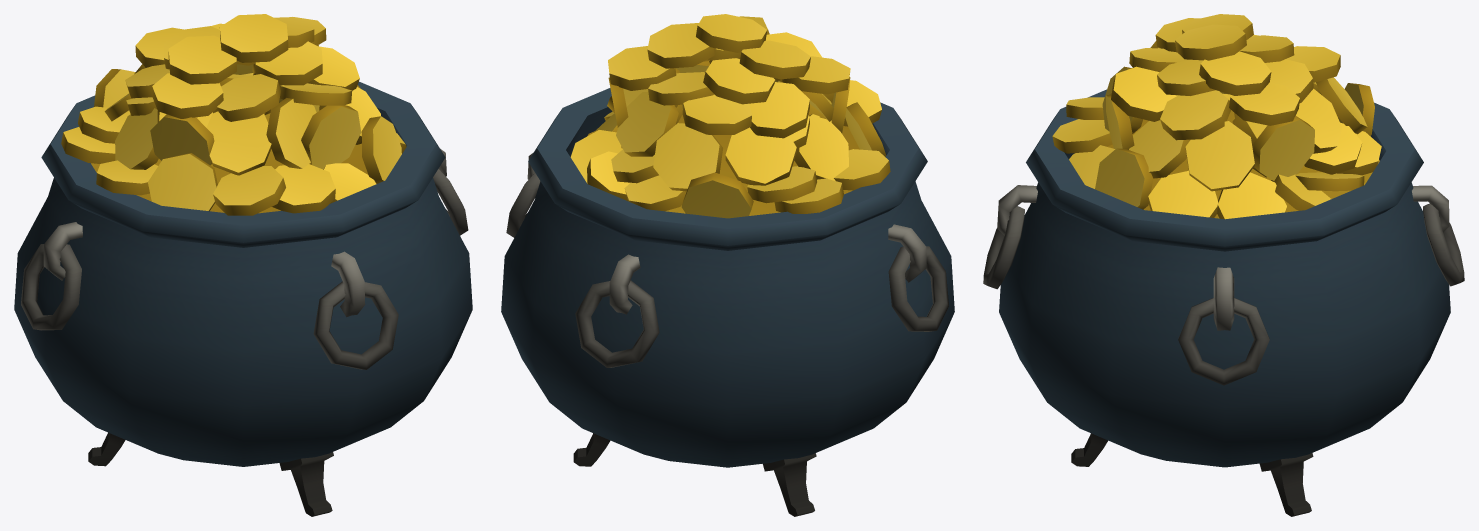
Rendered from Cauldron_Big_01.fbx.
3 renders of one model, left to right at view 1: azimuth 30°, elevation 25°; view 2: azimuth 150°, elevation 25°; view 3: azimuth 270°, elevation 25°, orthographic.
Visible parts, largest first — view 1: polySurface83, polySurface68, polySurface22, polySurface36, polySurface19, polySurface66, polySurface23, polySurface20, polySurface25, polySurface65, polySurface21, polySurface27 (+16 smaller); view 2: polySurface83, polySurface29, polySurface30, polySurface43, polySurface69, polySurface31, polySurface32, polySurface24, polySurface42, polySurface28, polySurface19, polySurface23 (+16 smaller); view 3: polySurface83, polySurface33, polySurface38, polySurface34, polySurface73, polySurface42, polySurface37, polySurface77, polySurface76, polySurface40, polySurface19, polySurface35 (+19 smaller).
Part boxes in pixels (x1,y1,x2,y2): polySurface83: (14, 81, 472, 516); polySurface68: (148, 153, 217, 211); polySurface22: (206, 111, 271, 175); polySurface36: (301, 105, 361, 169); polySurface19: (219, 14, 288, 62); polySurface66: (213, 166, 285, 215); polySurface23: (168, 35, 236, 84); polySurface20: (266, 98, 316, 168); polySurface25: (152, 73, 223, 118); polySurface65: (272, 164, 335, 213); polySurface21: (213, 74, 280, 121); polySurface27: (150, 114, 214, 165); polySurface83: (501, 88, 954, 516); polySurface29: (653, 123, 722, 191); polySurface30: (725, 127, 796, 185); polySurface43: (616, 92, 678, 156); polySurface69: (681, 172, 753, 218); polySurface31: (749, 82, 809, 138); polySurface32: (794, 114, 848, 180); polySurface24: (703, 58, 775, 104); polySurface42: (647, 23, 715, 68); polySurface28: (682, 94, 751, 134); polySurface19: (696, 14, 767, 52); polySurface23: (739, 40, 810, 79); polySurface83: (983, 89, 1464, 516); polySurface33: (1185, 121, 1254, 191); polySurface38: (1253, 116, 1314, 180); polySurface34: (1160, 90, 1230, 140); polySurface73: (1095, 148, 1153, 209); polySurface42: (1199, 51, 1271, 95); polySurface37: (1111, 66, 1177, 121); polySurface77: (1148, 170, 1218, 217); polySurface76: (1217, 172, 1286, 219); polySurface40: (1229, 82, 1299, 125); polySurface19: (1175, 24, 1246, 60); polySurface35: (1129, 120, 1190, 178).
Size of the model in its own units: 6.42 by 6.35 by 6.42.
